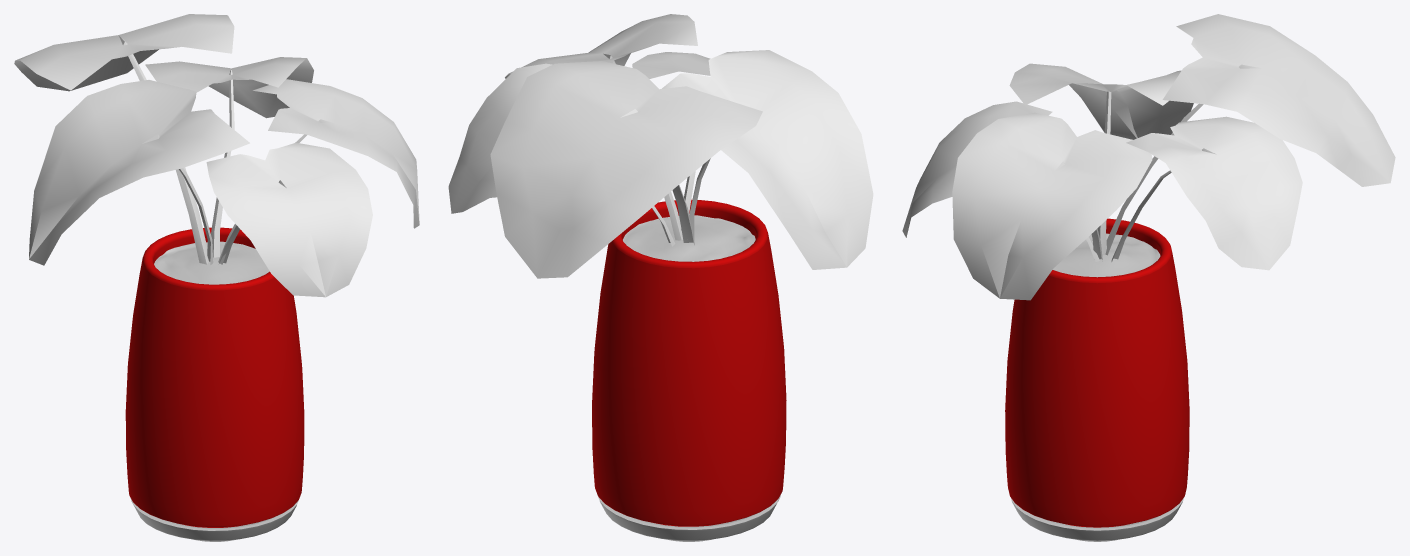
The model's file is Plant Tropical.fbx.
3 renders of one model, left to right at view 1: azimuth 30°, elevation 25°; view 2: azimuth 150°, elevation 25°; view 3: azimuth 270°, elevation 25°, orthographic. The views are drawn at different scales.
Visible parts, largest first — view 1: Plant_Tropical, Vase; view 2: Plant_Tropical, Vase; view 3: Plant_Tropical, Vase.
Boxes of the visible parts, left/top/right/bottom form: Plant_Tropical: left=14, top=14, right=419, bottom=297; Vase: left=125, top=227, right=304, bottom=541; Plant_Tropical: left=448, top=14, right=873, bottom=278; Vase: left=592, top=199, right=786, bottom=541; Plant_Tropical: left=902, top=14, right=1395, bottom=300; Vase: left=1005, top=218, right=1189, bottom=541.
Size of the model in its own units: 91.17 by 112 by 109.
